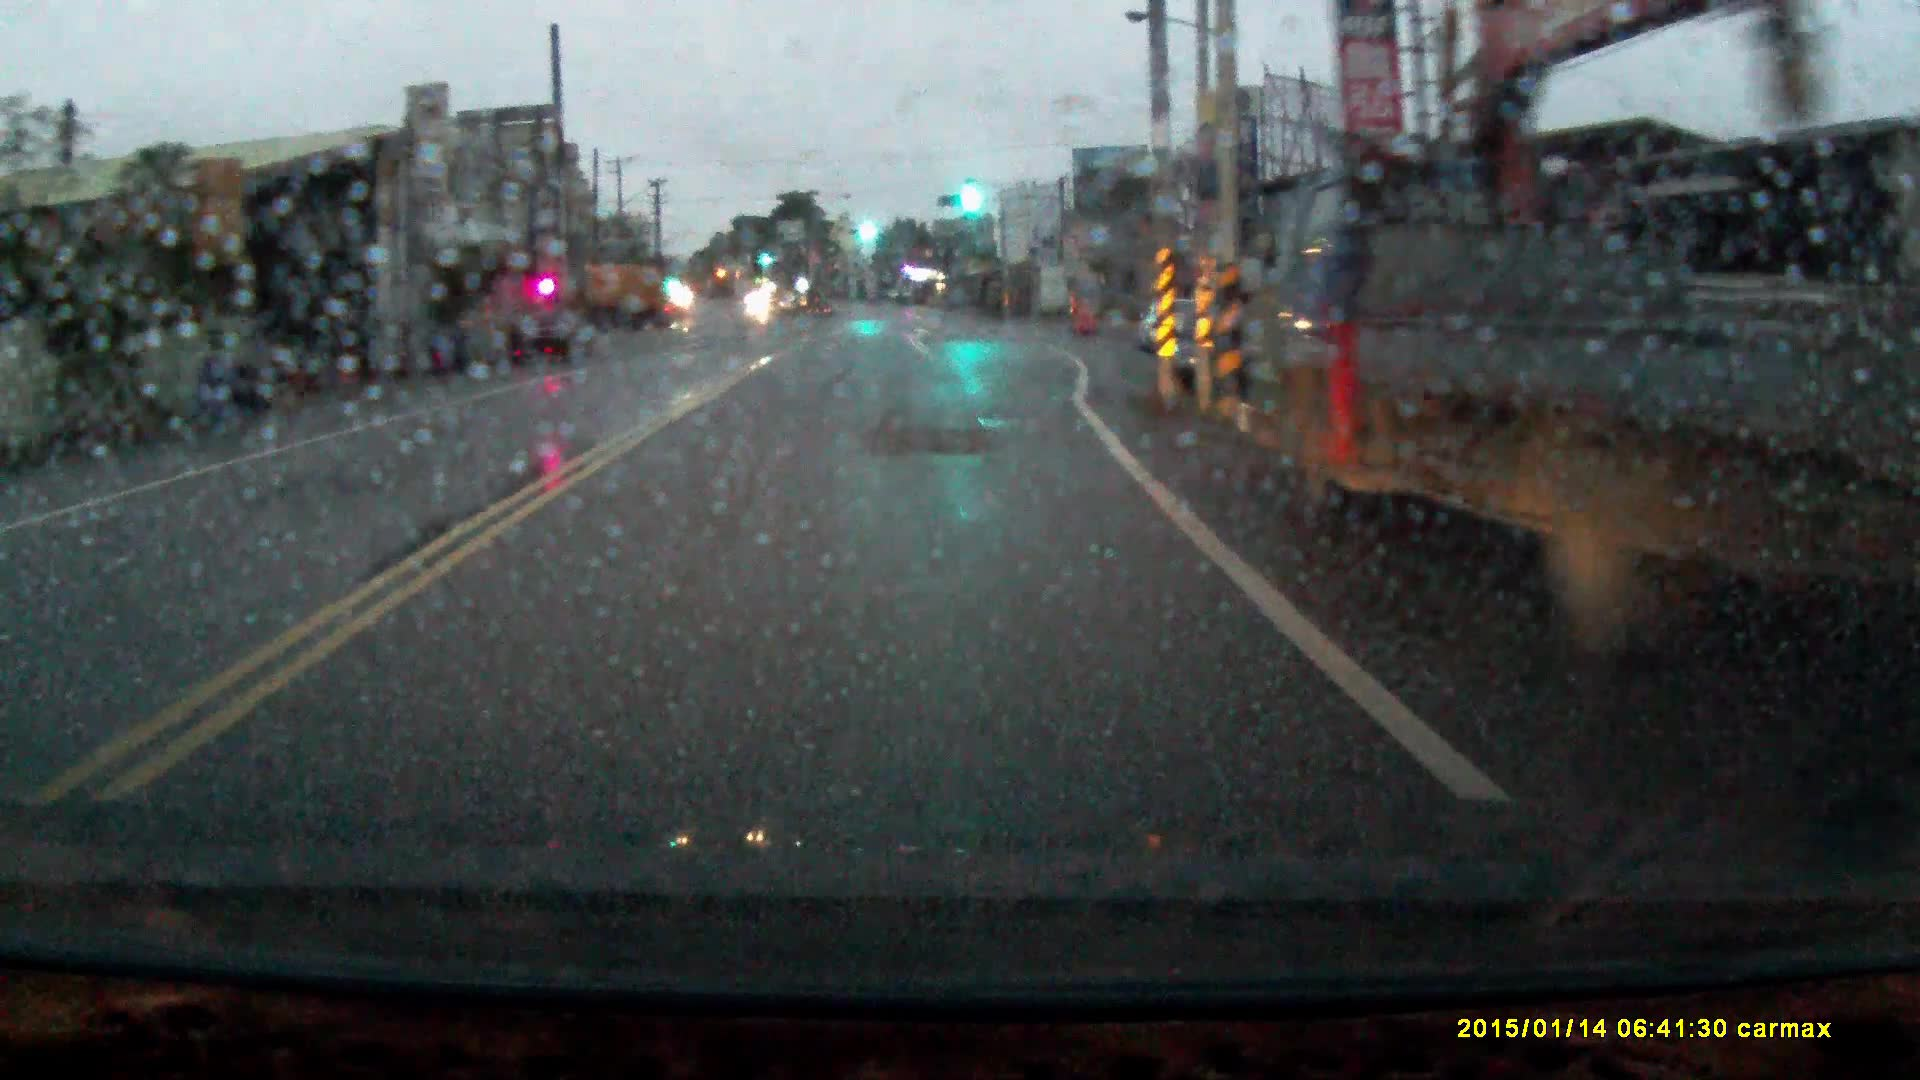vehicle: (1280, 156, 1920, 654), (559, 257, 667, 330), (508, 306, 593, 363)
